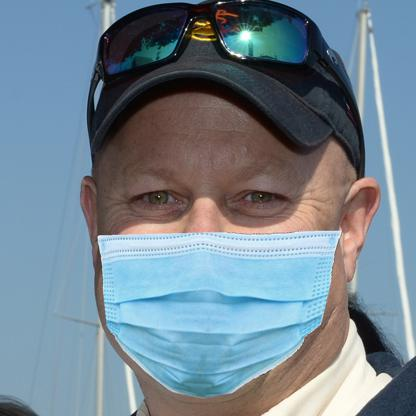mask: (94, 227, 344, 397)
